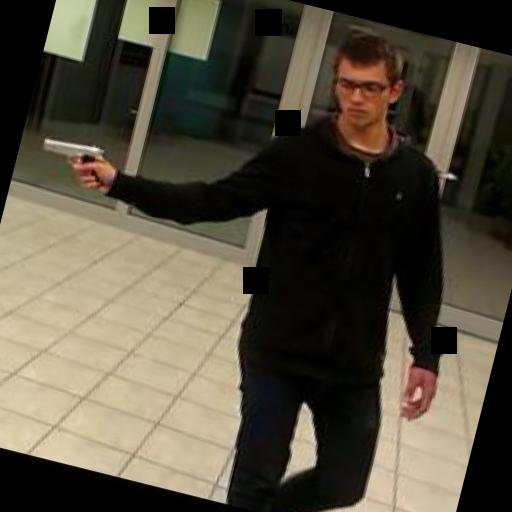Handgun: (30, 126, 120, 193)
